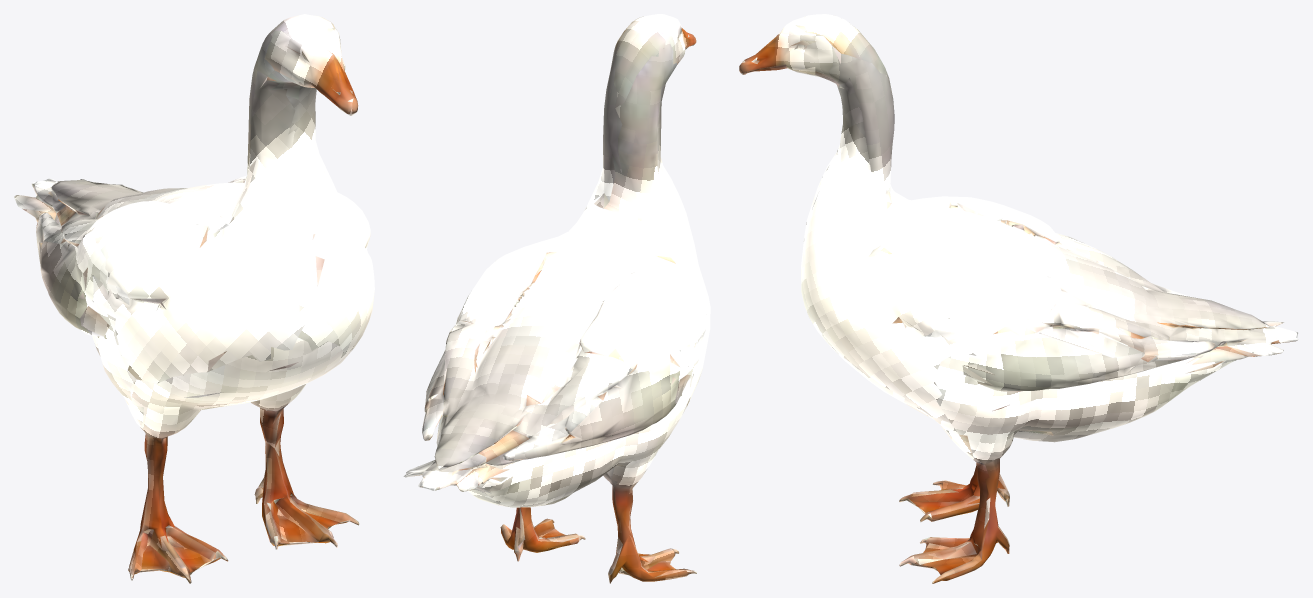
The model's file is kit_goose_standing_b.glb.
The picture shows the model from 3 angles, left to right: view 1: azimuth 30°, elevation 25°; view 2: azimuth 150°, elevation 25°; view 3: azimuth 270°, elevation 25°; orthographic projection. The views are drawn at different scales.
Parts seen in each view (by area): view 1: Mesh1.0; view 2: Mesh1.0; view 3: Mesh1.0.
Boxes of the visible parts, left/top/right/bottom form: Mesh1.0: left=14, top=14, right=374, bottom=583; Mesh1.0: left=403, top=14, right=710, bottom=583; Mesh1.0: left=739, top=14, right=1298, bottom=583.
Bounding box in the file's own units: 0.3931 × 0.85 × 0.833.
1 material, 1 textured.
